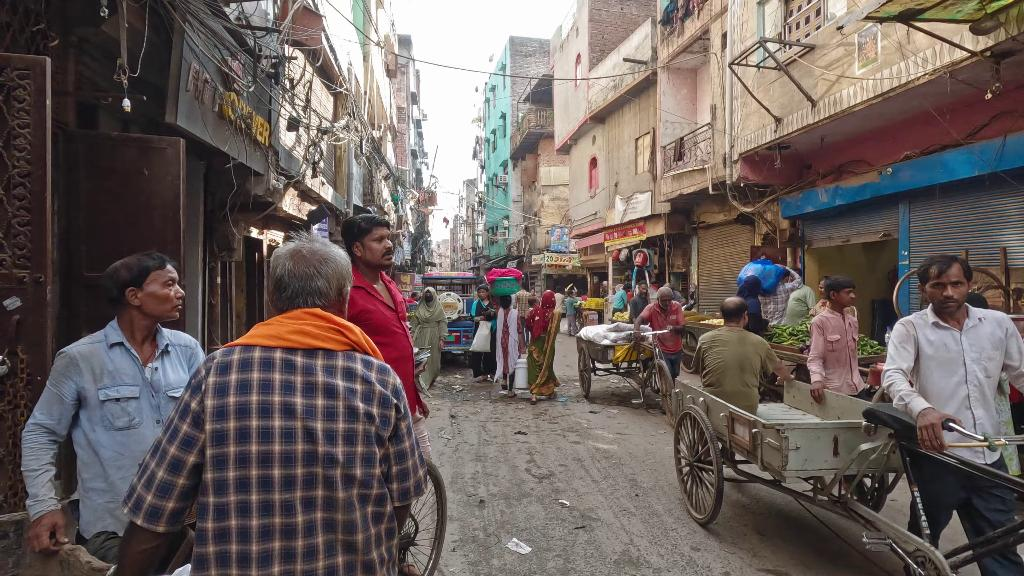garbage: (505, 538, 533, 556)
